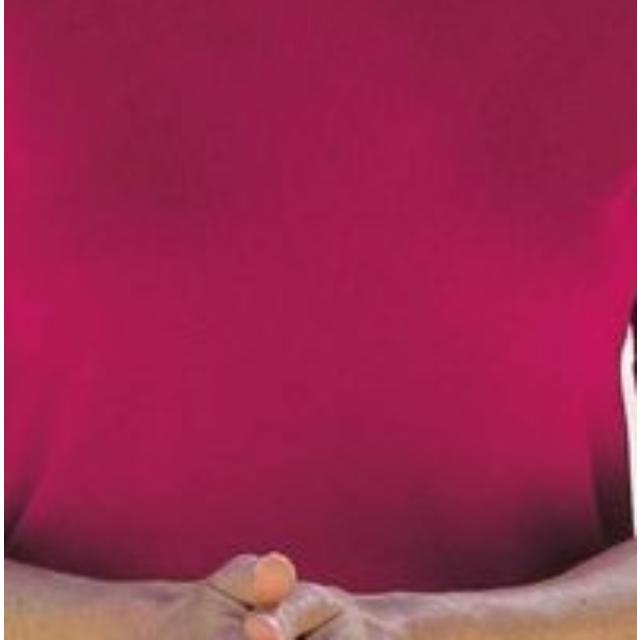wool: (4, 0, 636, 548)
